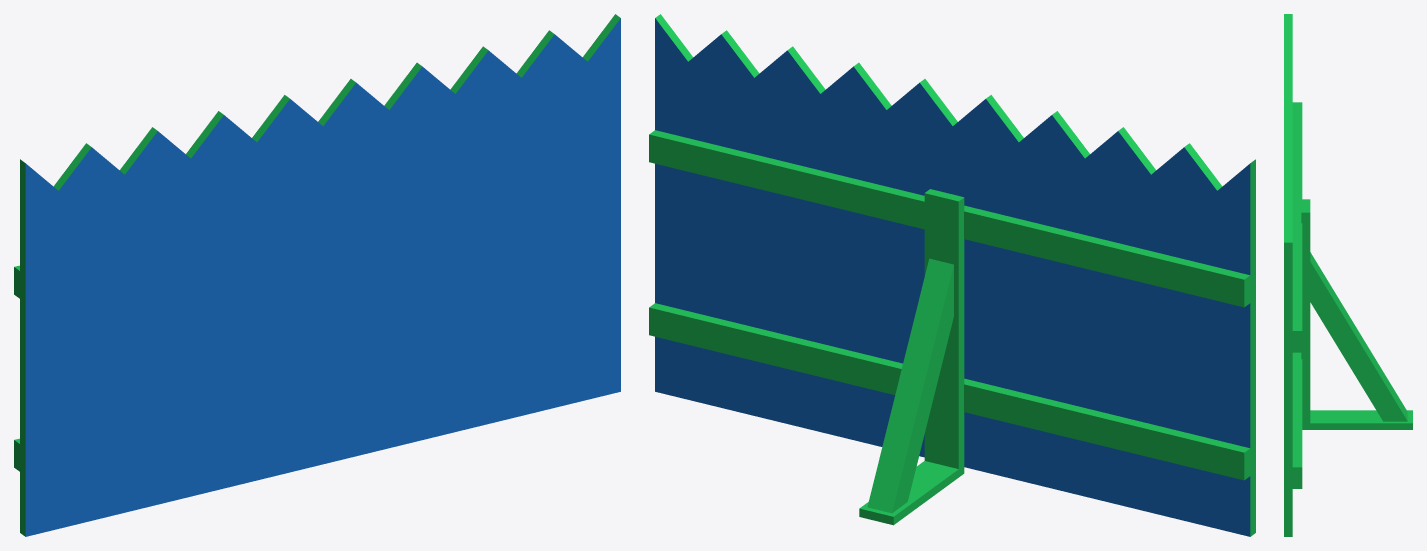
File: SM_plywood_fence_8.fbx
3 views of the same model, side by side, from view 1: azimuth 30°, elevation 25°; view 2: azimuth 150°, elevation 25°; view 3: azimuth 270°, elevation 25° (orthographic). The views are drawn at different scales.
Parts seen in each view (by area): view 1: Cube_42; view 2: Cube_42; view 3: Cube_42.
Boxes of the visible parts, box(x1,y1,x2,y2) form: Cube_42: box(14, 14, 620, 536); Cube_42: box(649, 14, 1255, 536); Cube_42: box(1284, 14, 1412, 536).
Bounding box in the file's own units: 250 × 150 × 59.47.
